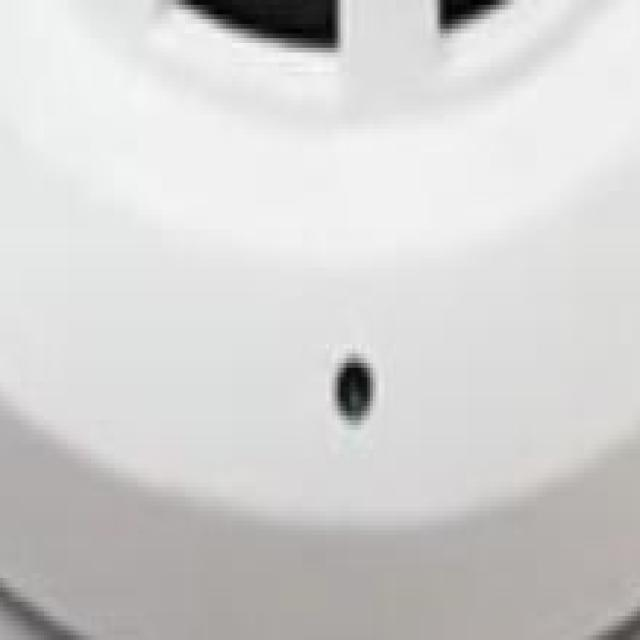hidden camera: (335, 362, 373, 421)
